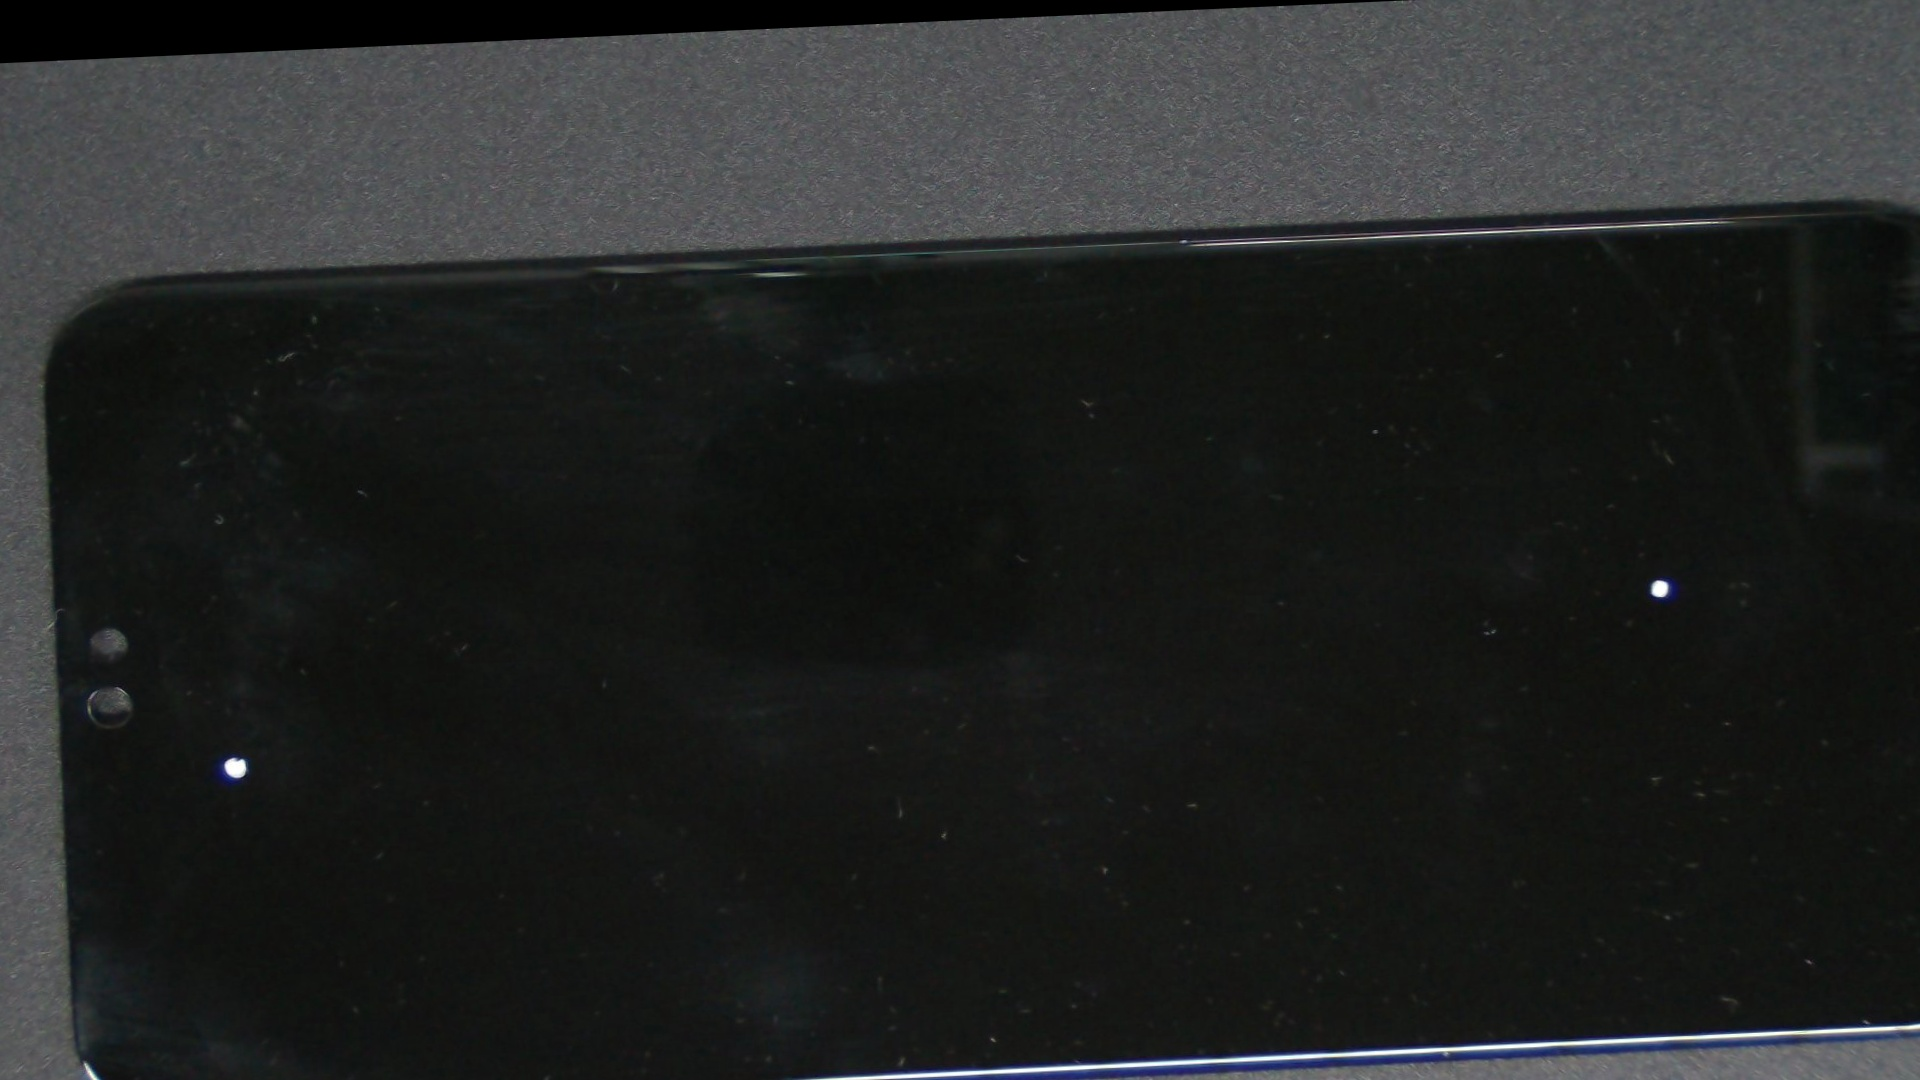oil: (756, 266, 1920, 914), (45, 397, 423, 1080)
